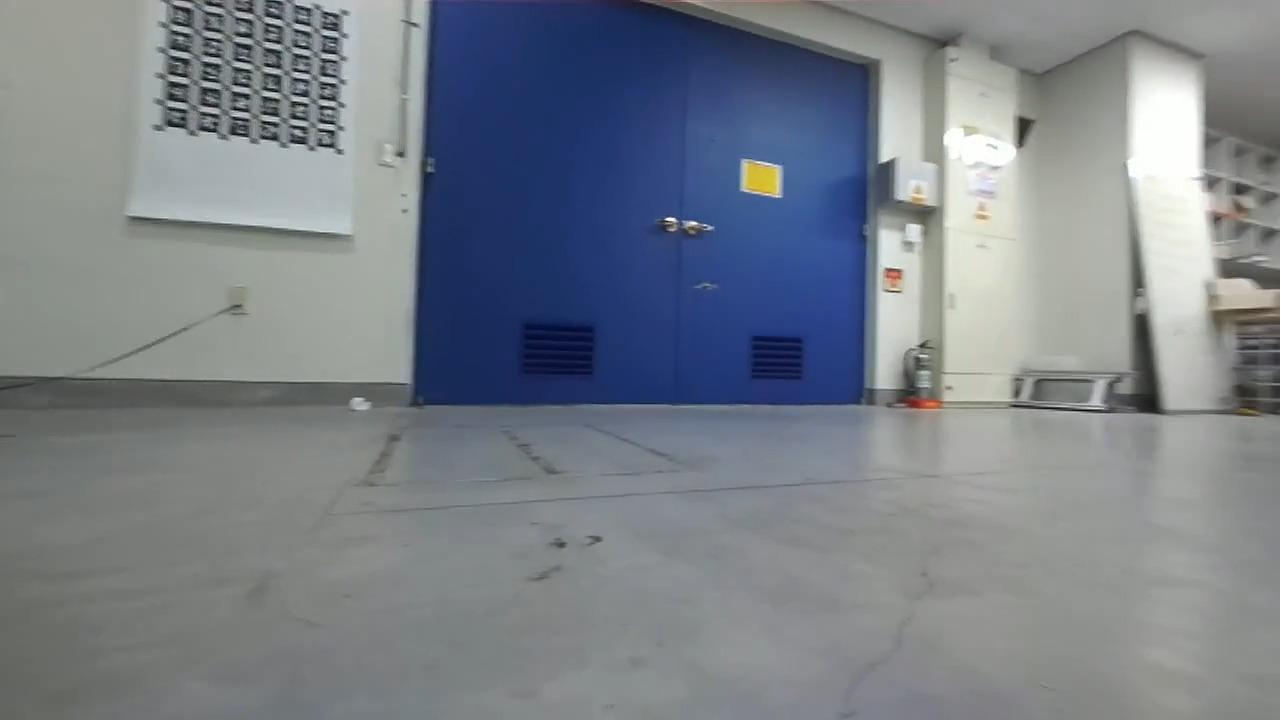crazyflie: (675, 275, 734, 297)
